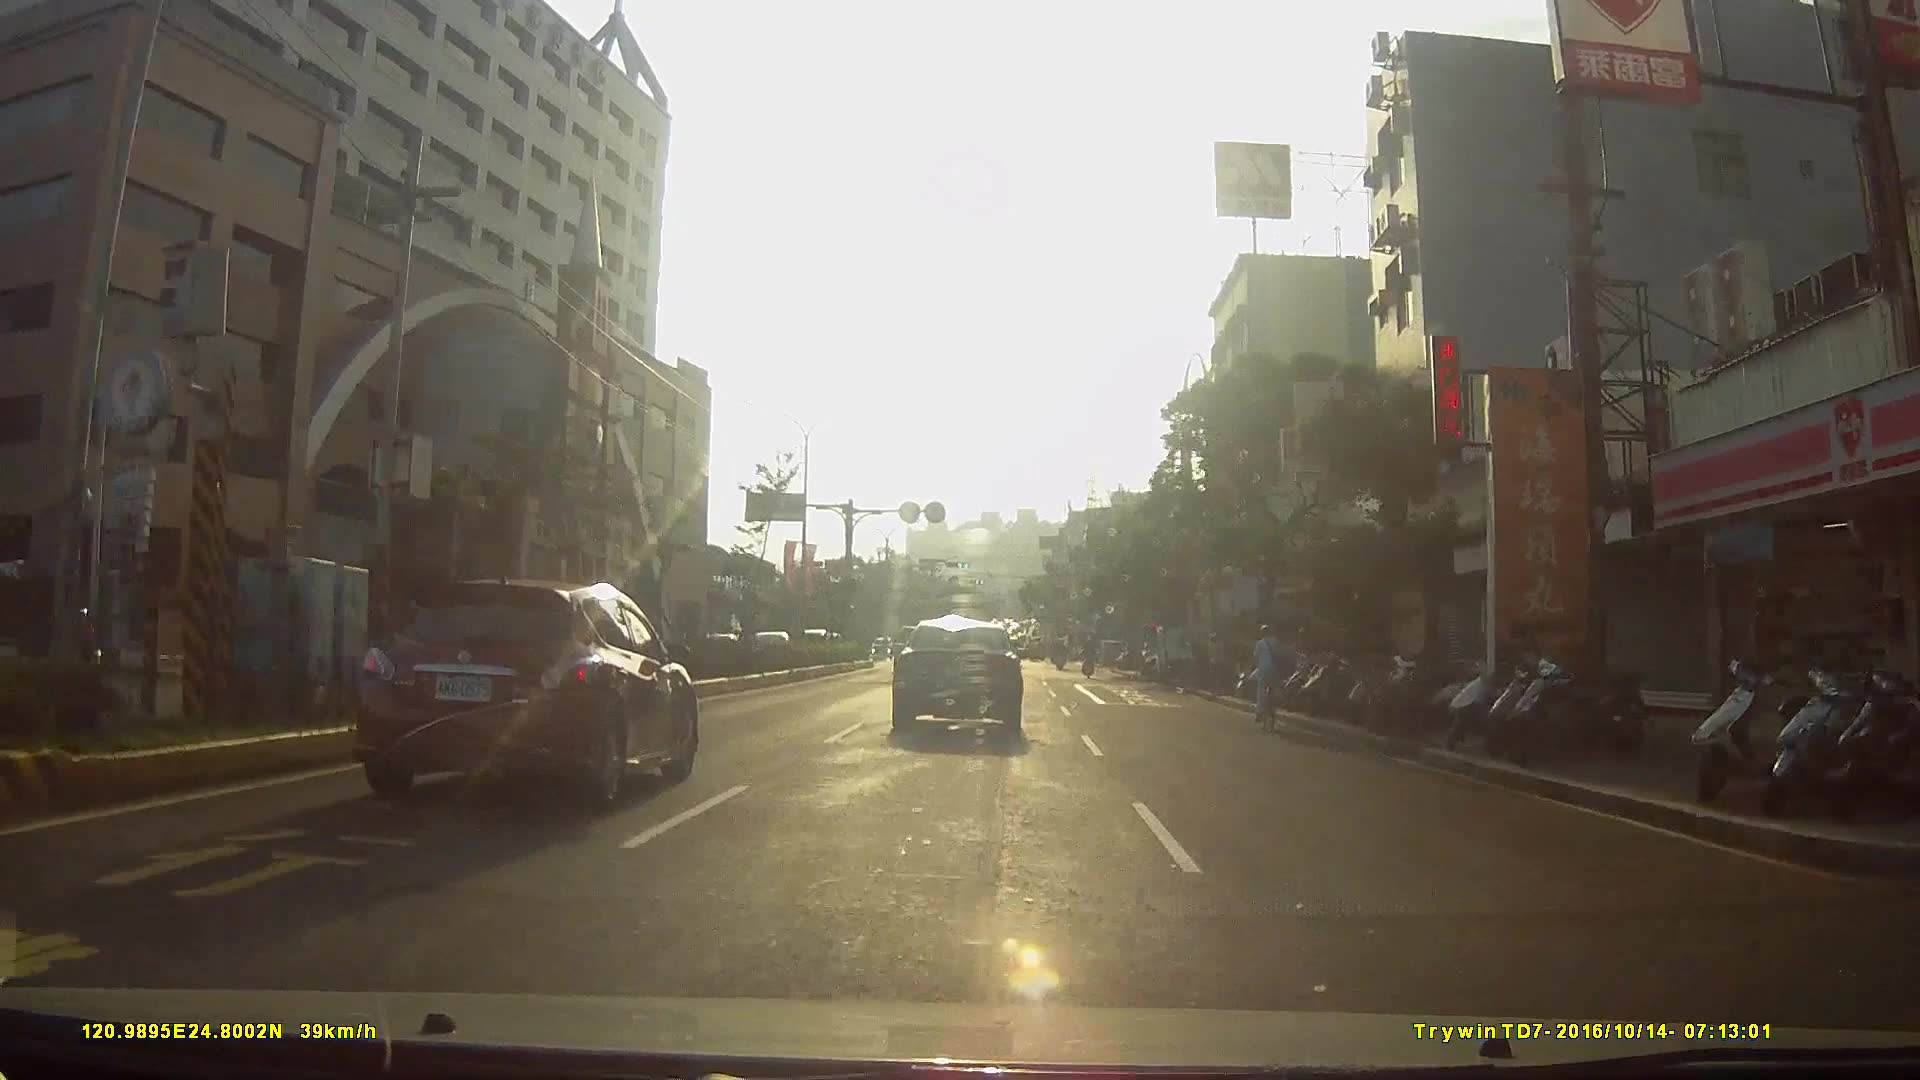rider: (43, 604, 115, 705), (1249, 624, 1291, 733)
vehicle: (351, 574, 712, 812), (886, 614, 1038, 748), (1151, 620, 1218, 685), (763, 607, 822, 662)
